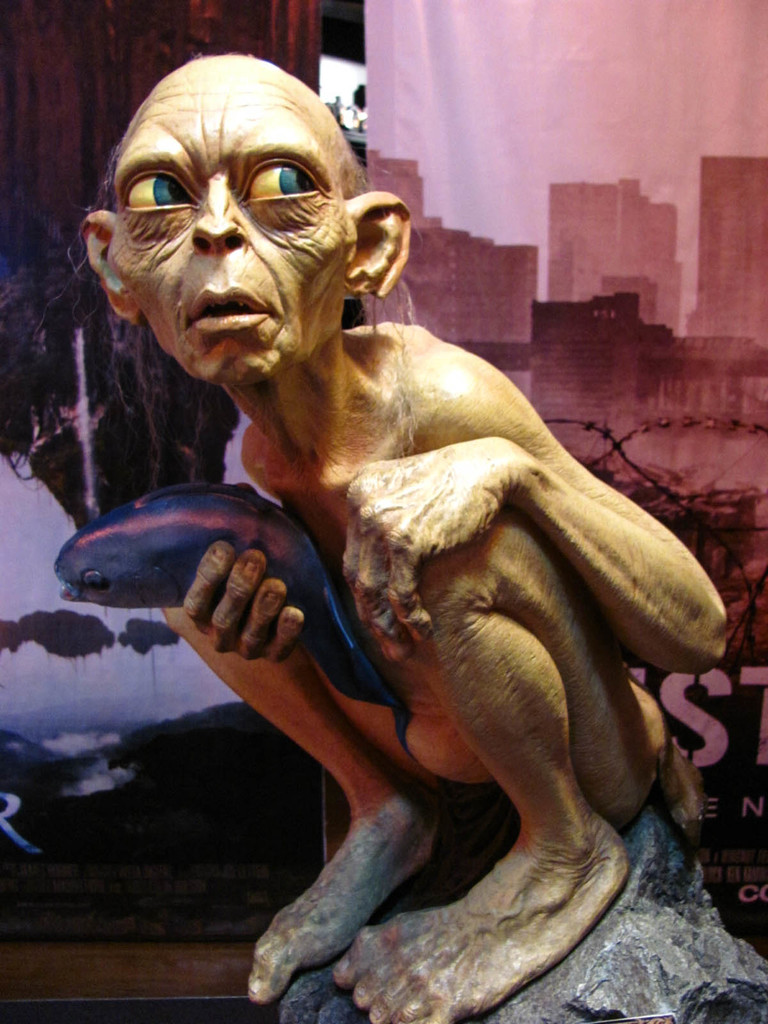Animal: (50, 480, 397, 703)
